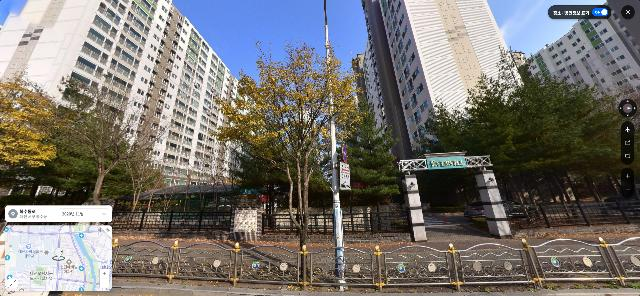ginkgo: (209, 35, 369, 281), (0, 61, 65, 185)
other: (464, 44, 639, 222), (39, 72, 160, 207), (337, 96, 402, 226), (115, 139, 173, 229), (189, 154, 236, 230)
